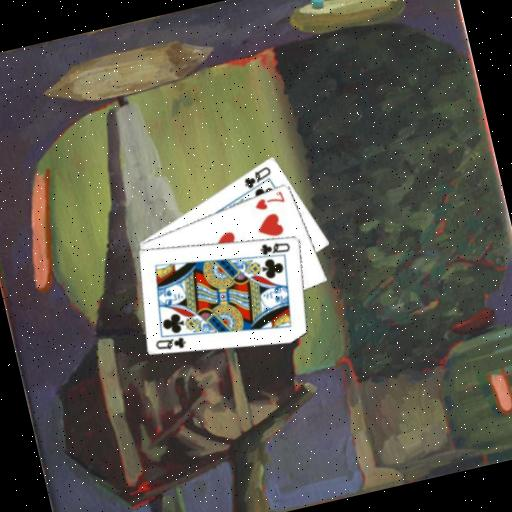7H: (250, 188, 288, 214)
QC: (238, 163, 275, 192), (256, 235, 293, 259), (152, 331, 189, 355)
